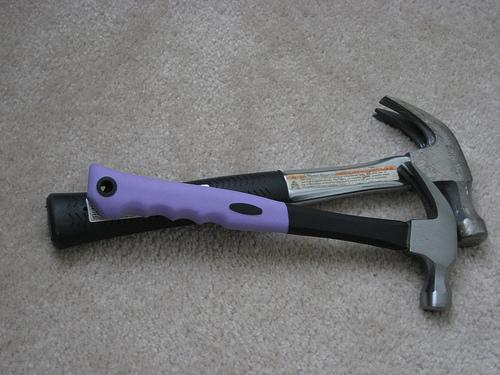hammer: (42, 91, 490, 251), (82, 156, 461, 313)
